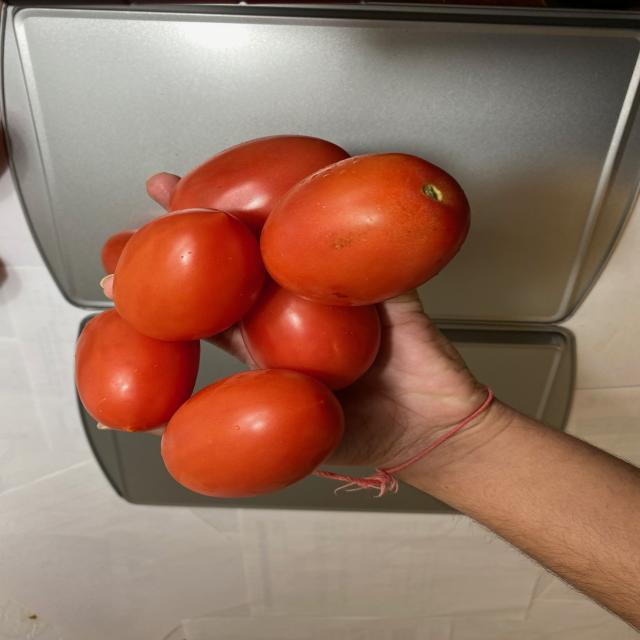tomato: (80, 130, 472, 496)
